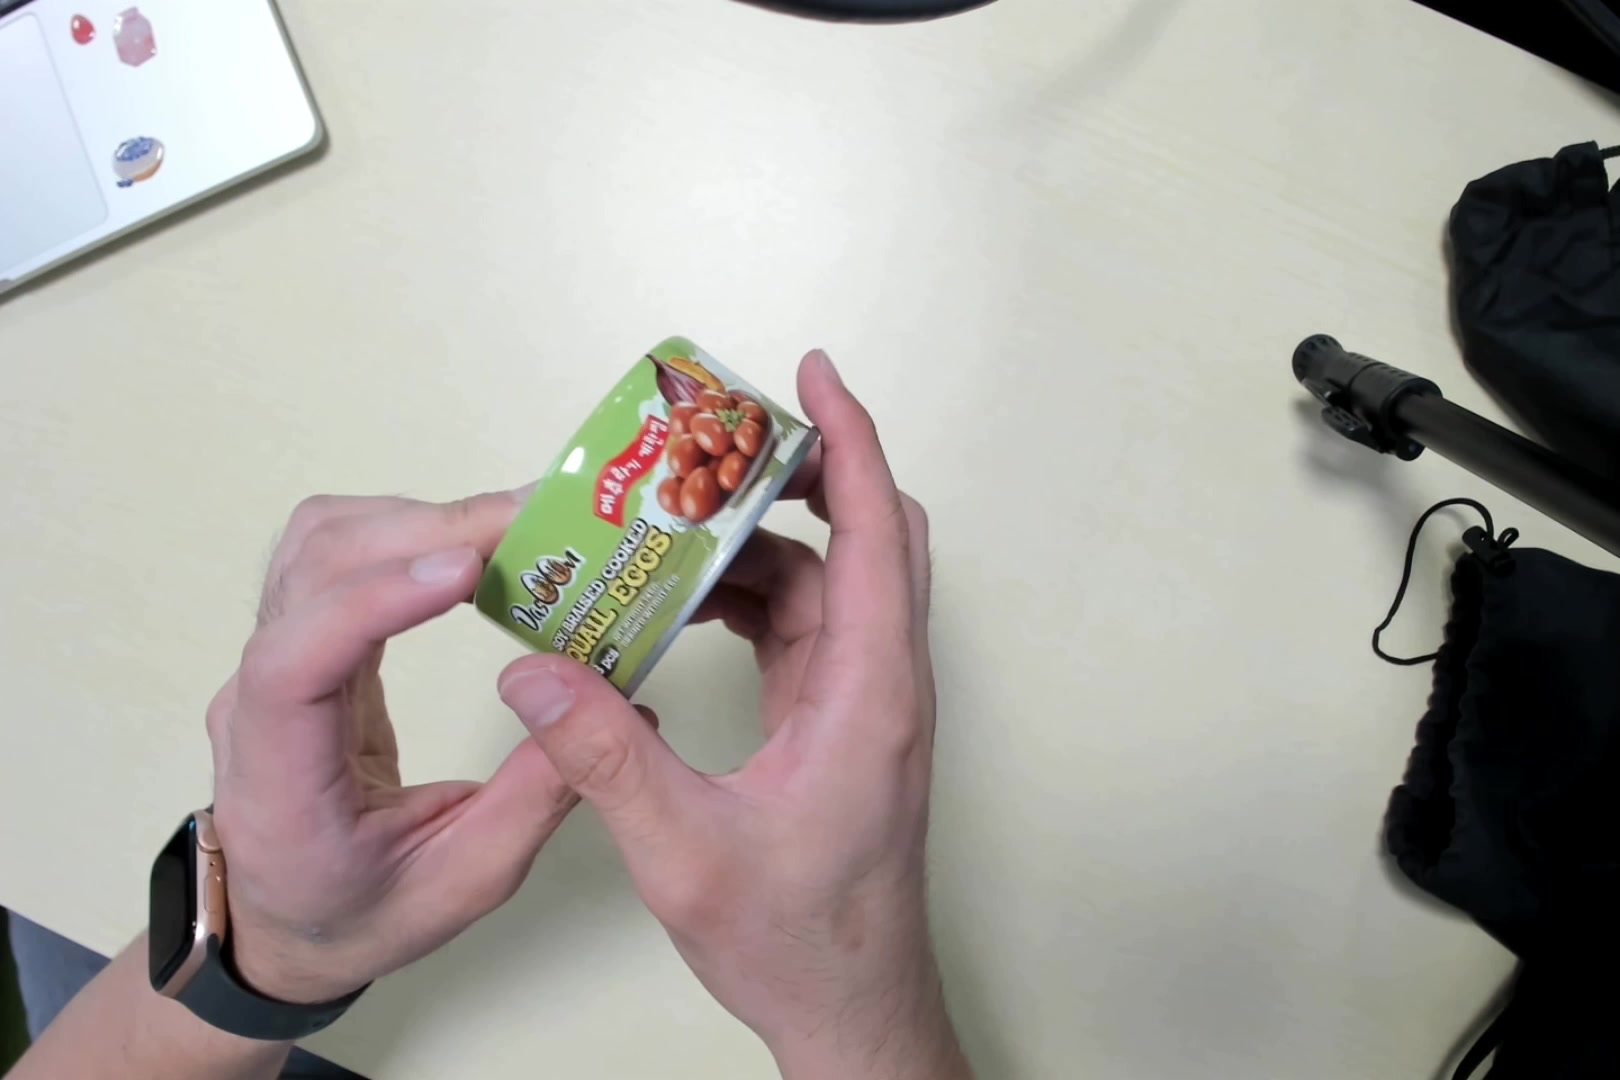CannedPorkLunchronMeat_100-199g_NonHalal_NonHealthy: (472, 331, 810, 702)
